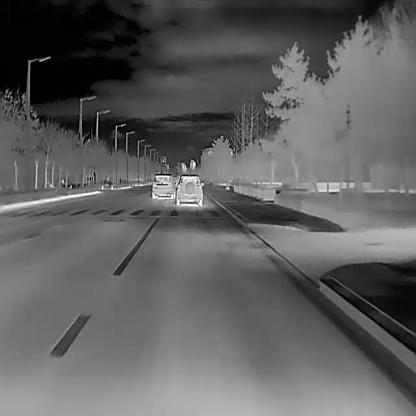car: (176, 173, 204, 206), (151, 172, 175, 198)
